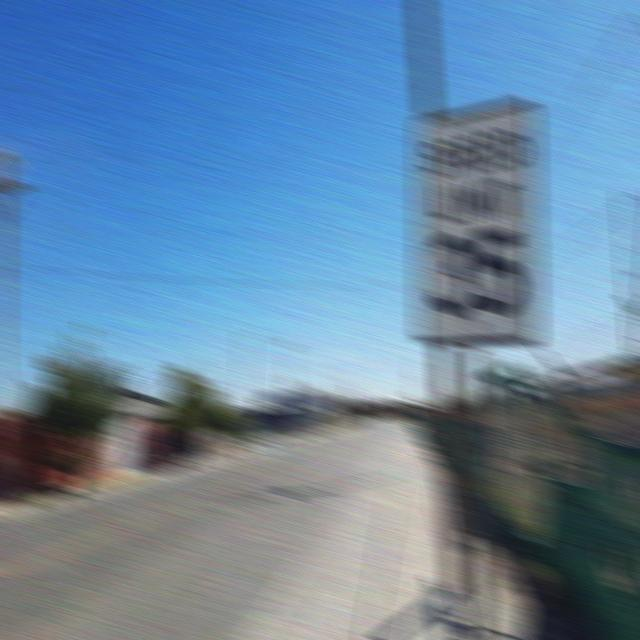speedLimit35: (412, 89, 543, 354)
